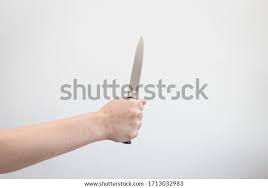knife: (120, 34, 144, 144)
